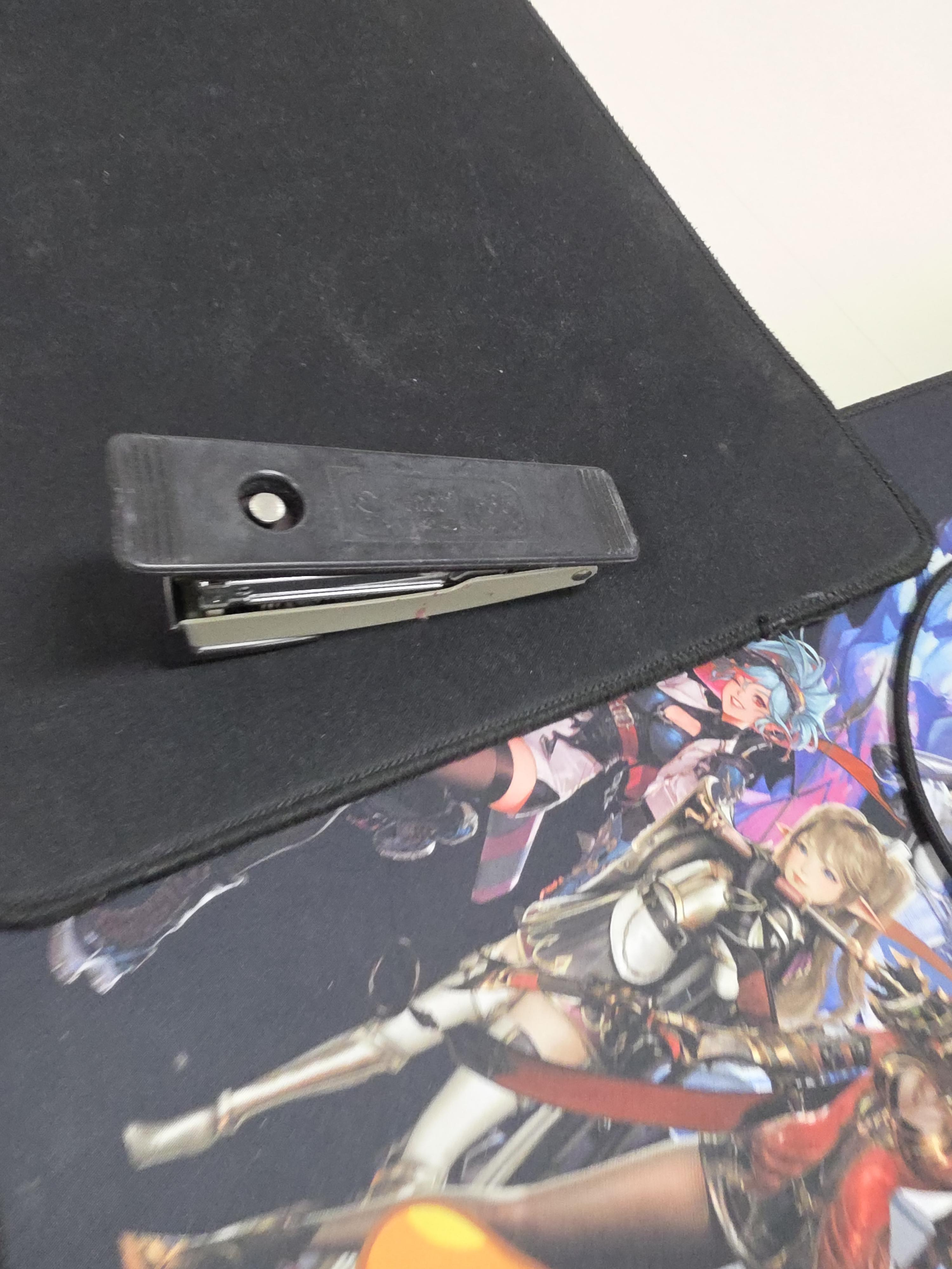stapler: (106, 434, 641, 661)
